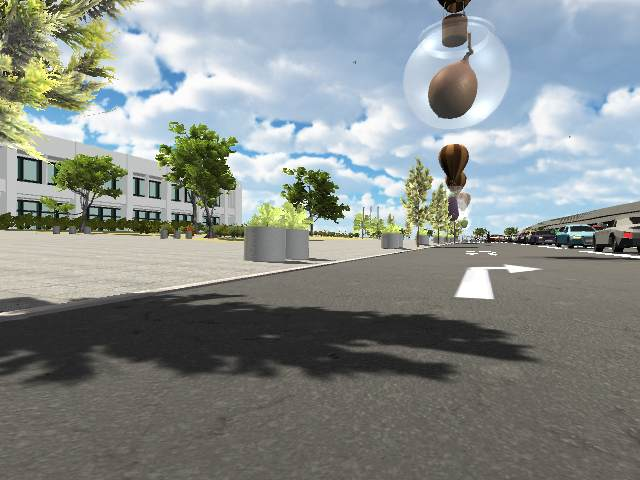ground_right: (465, 260, 545, 273)
